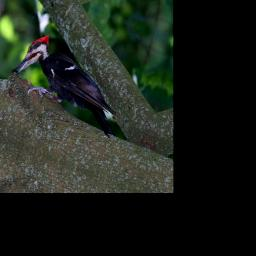Woodpecker: (7, 24, 132, 140)
